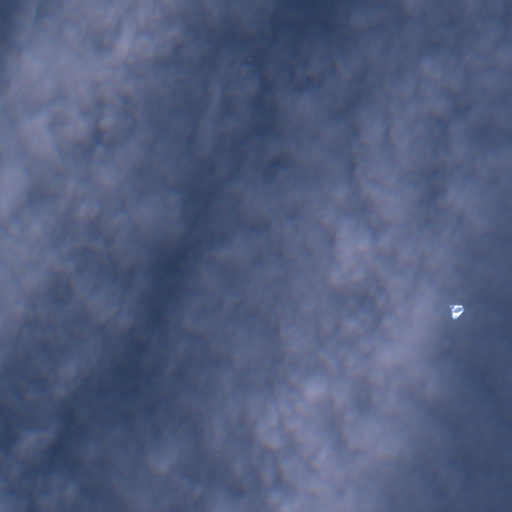Iceberg: (449, 305, 463, 319), (249, 58, 250, 60)
